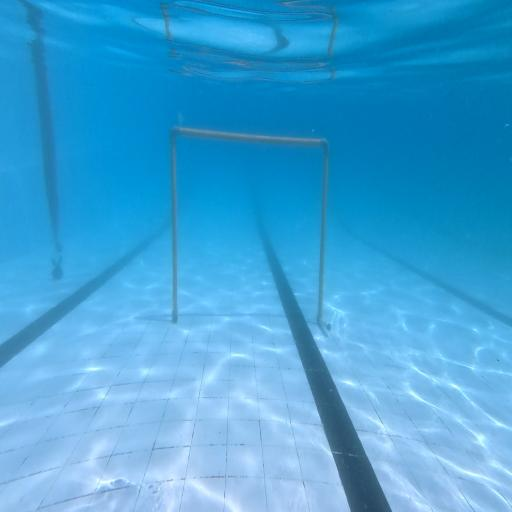gate: (169, 126, 332, 332)
